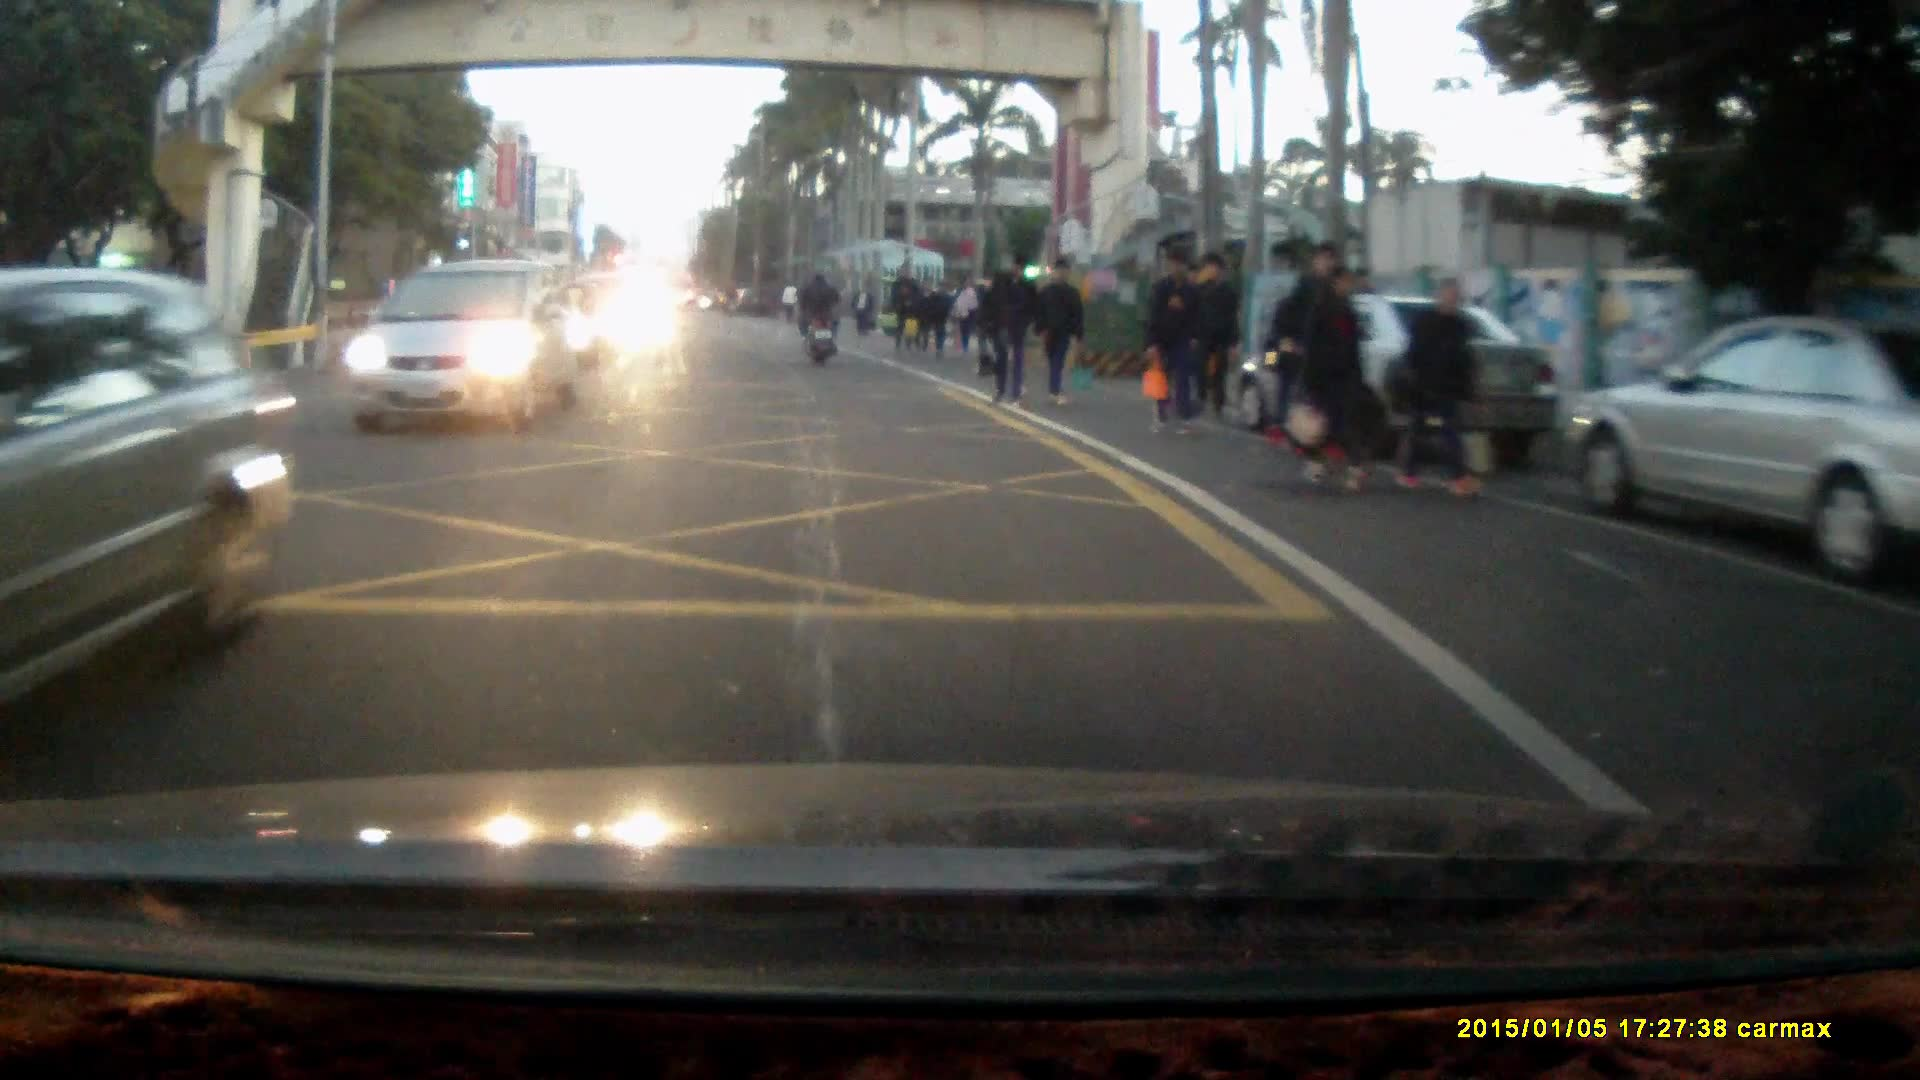pedestrian: (1395, 270, 1481, 500), (1297, 260, 1370, 493), (1143, 249, 1202, 430), (988, 258, 1046, 413), (1195, 253, 1244, 428), (1032, 254, 1086, 406), (886, 263, 918, 357), (950, 276, 980, 361), (909, 271, 933, 355), (851, 280, 875, 342)
rider: (797, 269, 841, 366)
vehicle: (1, 268, 302, 713), (1554, 319, 1920, 593), (1238, 298, 1561, 459), (338, 257, 586, 440)
